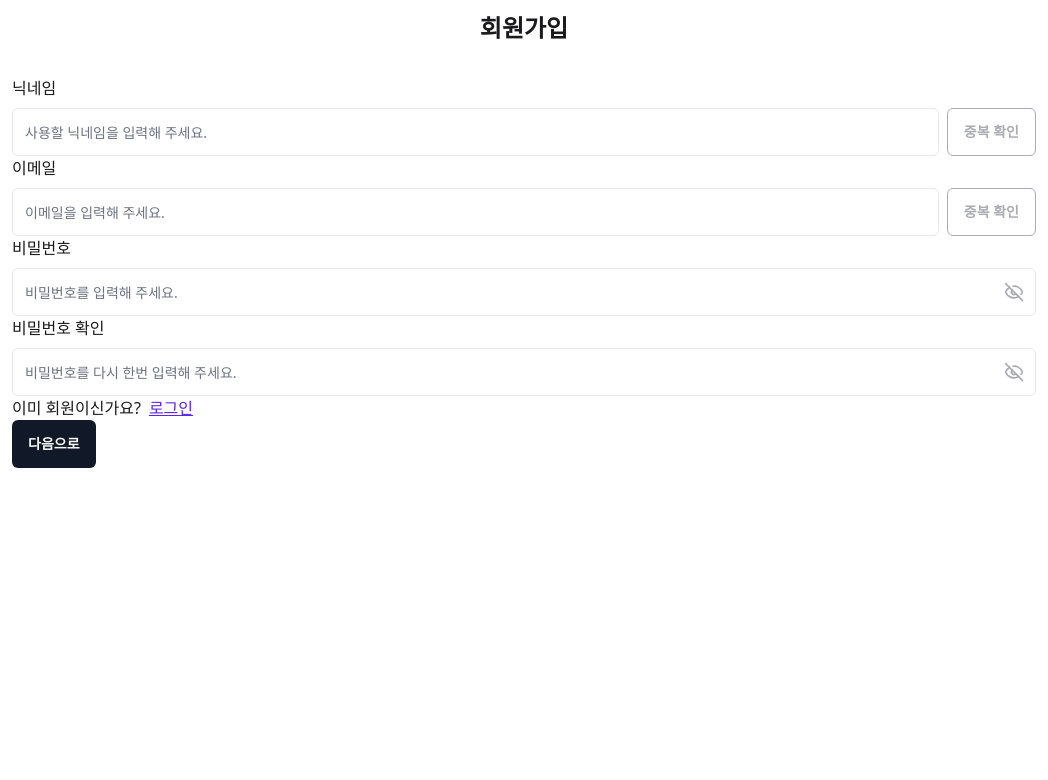
it: StepOne 컴포넌트 › 유효성 검사 › 닉네임이 10자 초과이면 에러 메시지가 표시된다
The image size is (1048, 780).
Type "매우긴닉네임테스트중입니다" into the field with placeholder "사용할 닉네임을 입력해 주세요." at coordinates (475, 132), box [12,108,939,156]
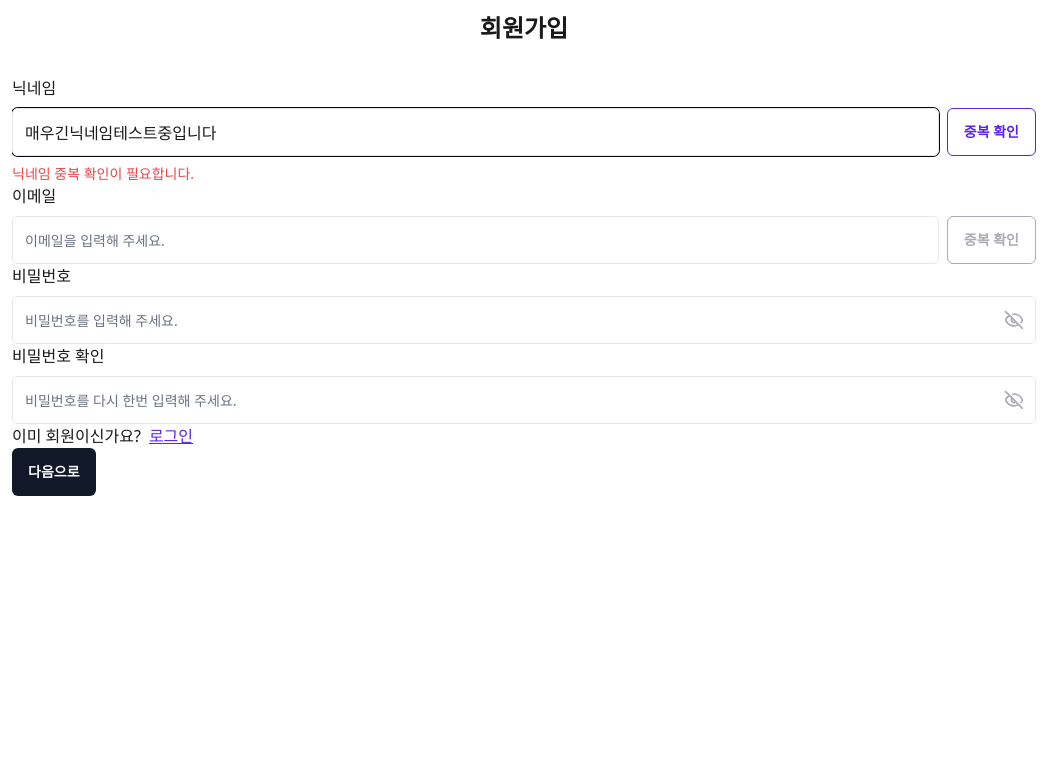
Click the button "다음으로" at coordinates (54, 472), box [12,448,96,496]
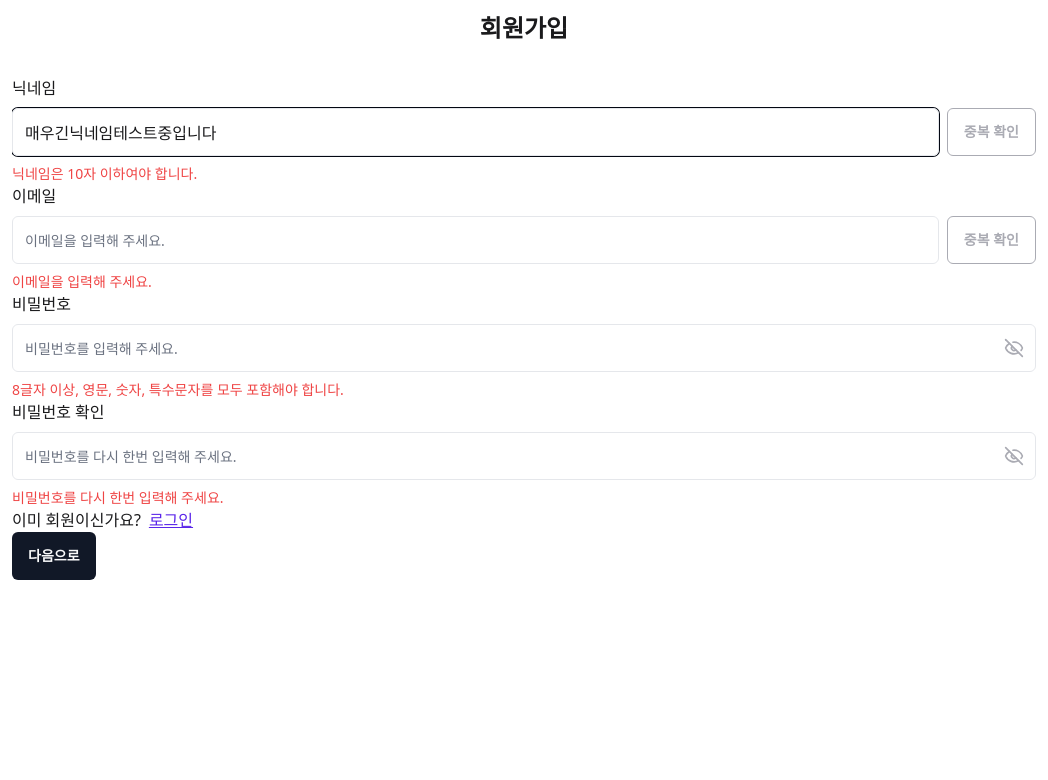
Check: the text "닉네임은 10자 이하여야 합니다." is shown, box [12,164,197,183]
